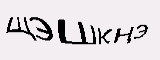К: (96, 27, 113, 45)
Ш: (56, 19, 98, 46)
Щ: (4, 16, 36, 43)
Э: (29, 15, 53, 41), (134, 24, 149, 40)
Ң: (113, 26, 133, 45)
